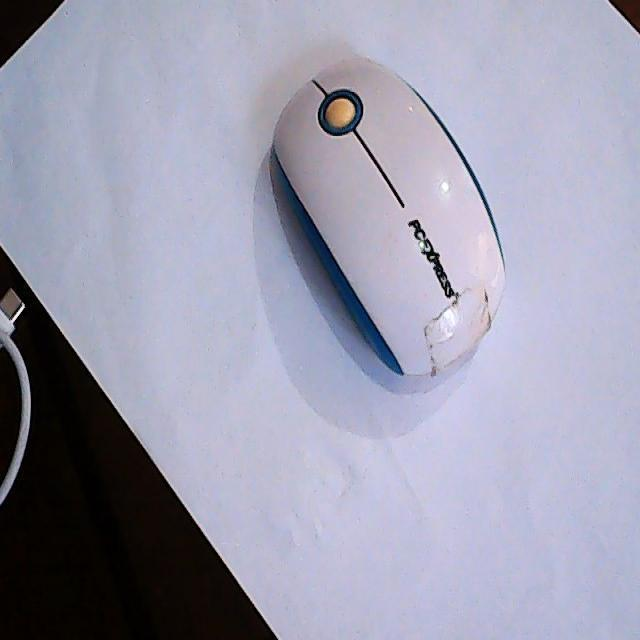Mouse: (271, 47, 509, 381)
